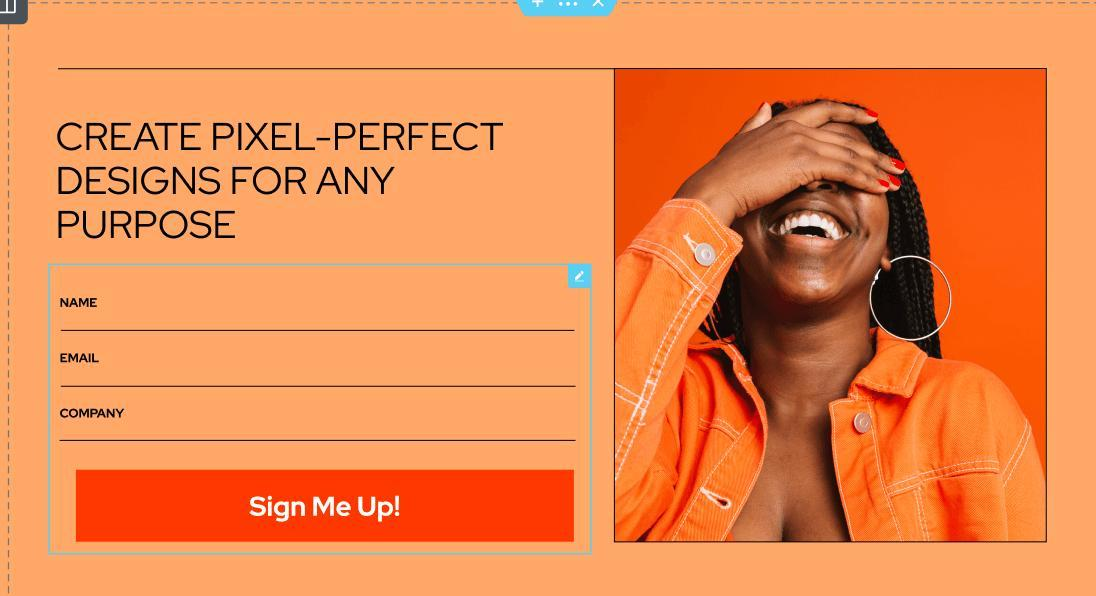button: (78, 472, 575, 544)
label: (56, 402, 129, 426), (62, 292, 104, 314), (57, 350, 104, 368)
